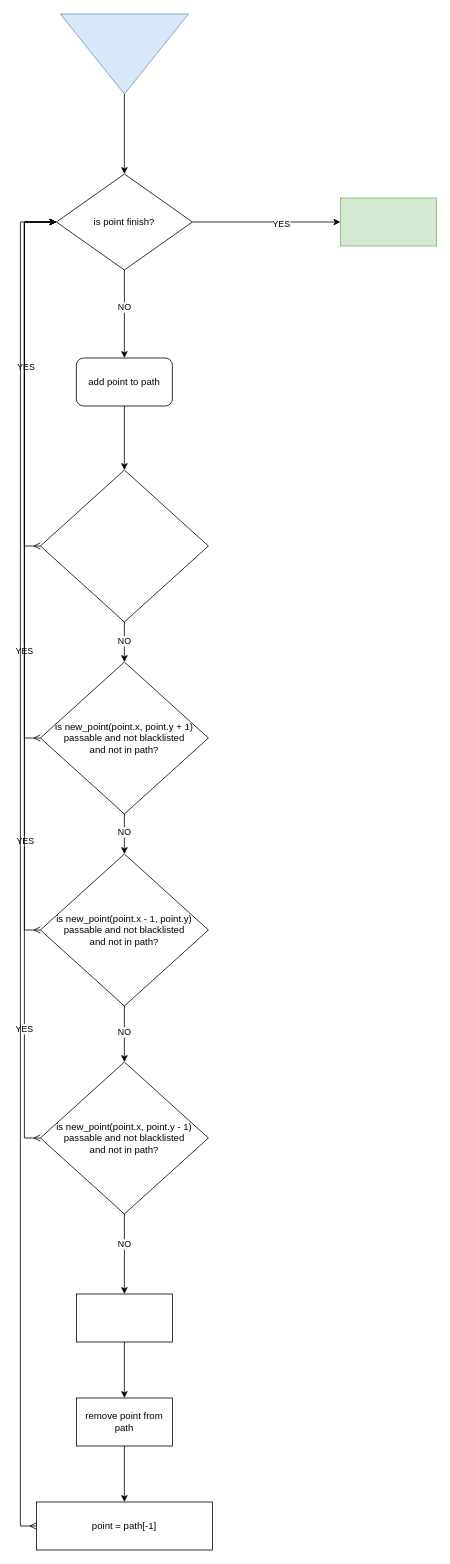
Some shapes in this 450 by 1564 pixel diagram are drawn without their labels. Each missing label, with the box of its shape:
- point(x, y) - path - list - blacklist - set: (60, 13, 188, 94)
add point to blacklist (because of no outlet for this point): (76, 1293, 172, 1342)
EXIT: (340, 197, 436, 246)
is new_point(point.x + 1, point.y) passable and not blacklisted and not in path?: (40, 469, 208, 622)
